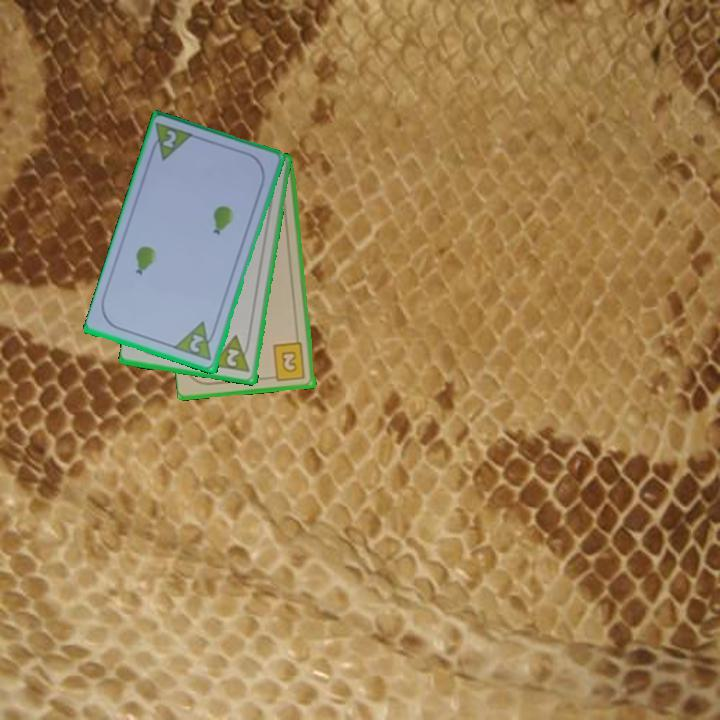2b: (266, 340, 308, 384)
2p: (159, 126, 180, 152), (186, 331, 207, 356), (223, 345, 242, 369)
